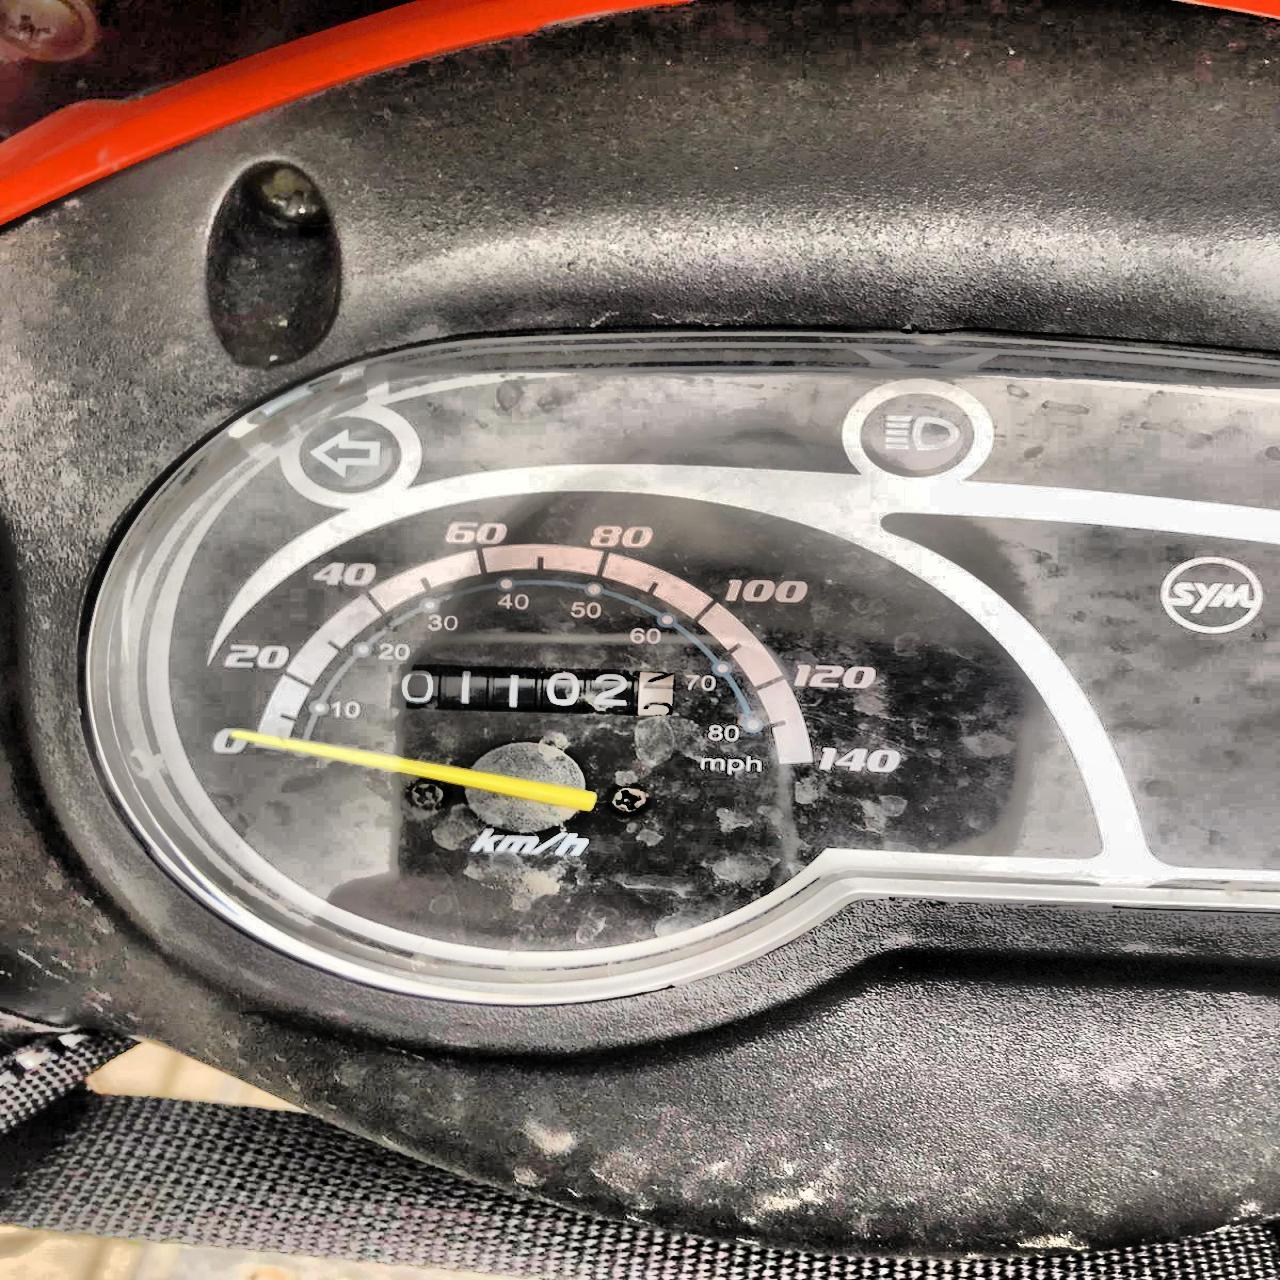0: (543, 667, 583, 710), (396, 667, 438, 706)
1: (452, 666, 478, 708), (502, 669, 525, 712)
2: (591, 672, 629, 710), (644, 663, 676, 694)
odometer: (377, 661, 678, 716)
